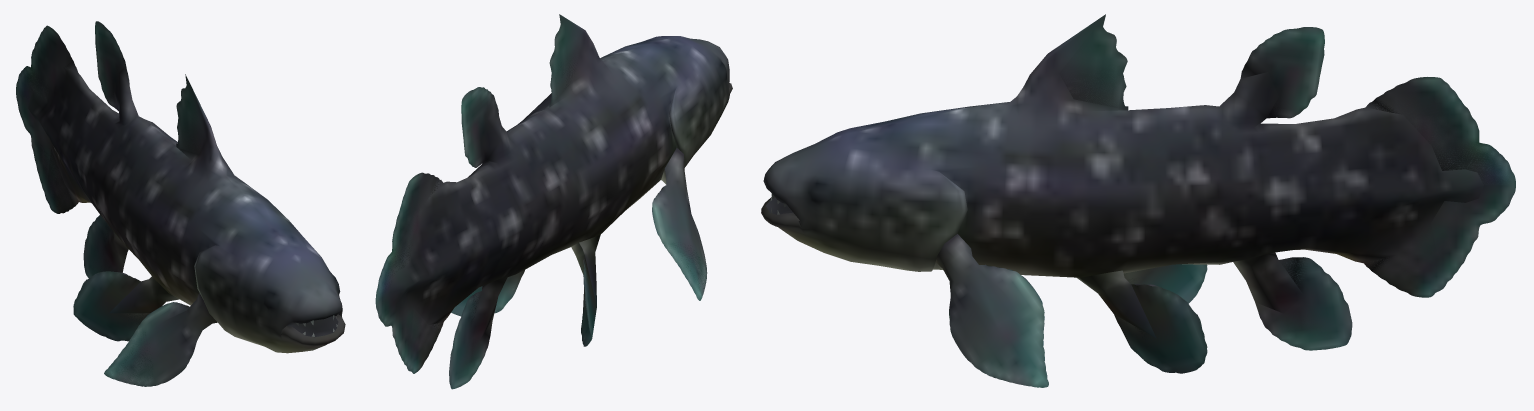
File: coelacanth.glb
3 renders of one model, left to right at view 1: azimuth 30°, elevation 25°; view 2: azimuth 150°, elevation 25°; view 3: azimuth 270°, elevation 25°, orthographic. The views are drawn at different scales.
Bounding box in the file's own units: 8.66 × 10.52 × 21.24.
1 material, 1 textured.
